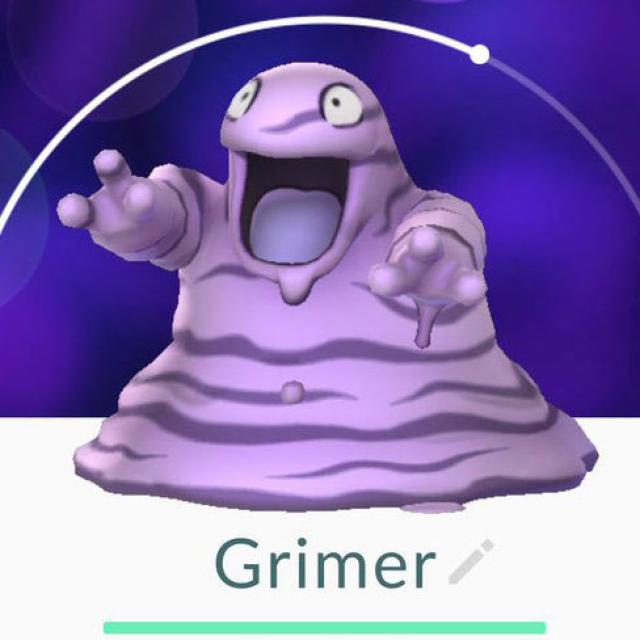Grimer: (80, 61, 520, 500)
